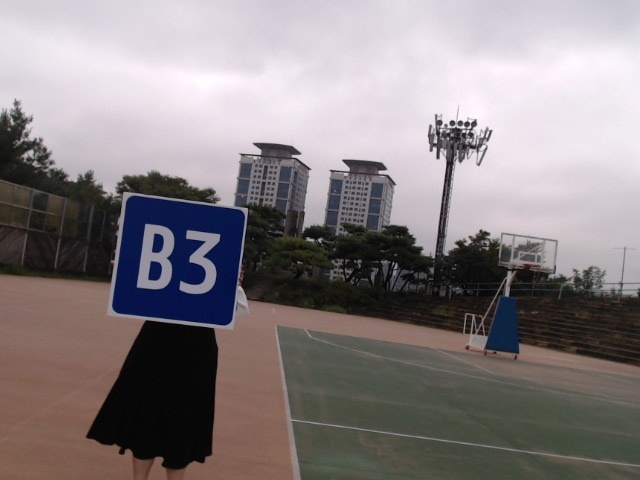delivery_b3: (111, 191, 245, 326)
